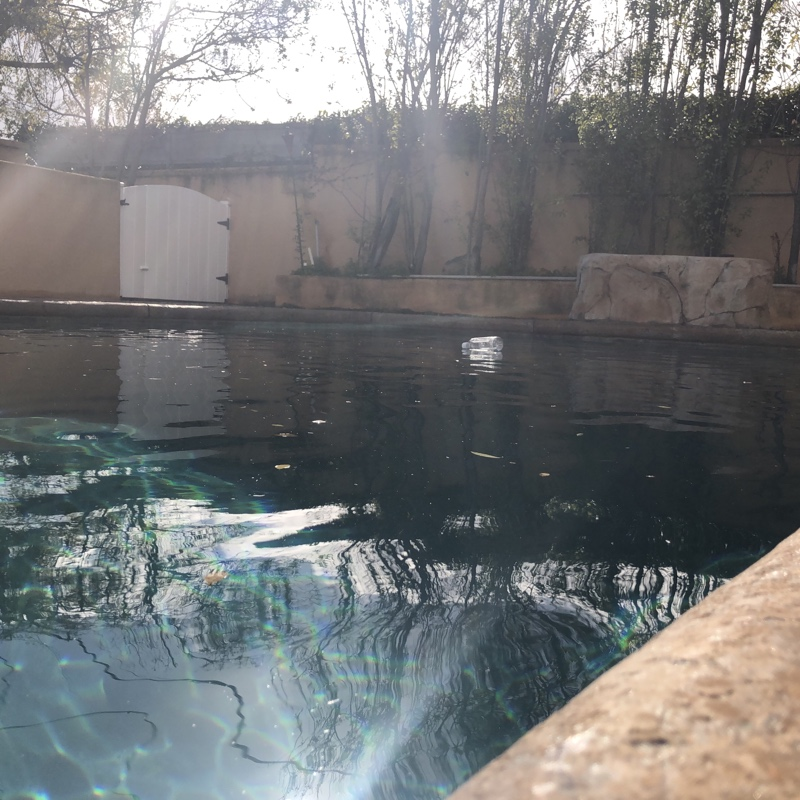Plastic Bottle: (460, 336, 504, 350)
